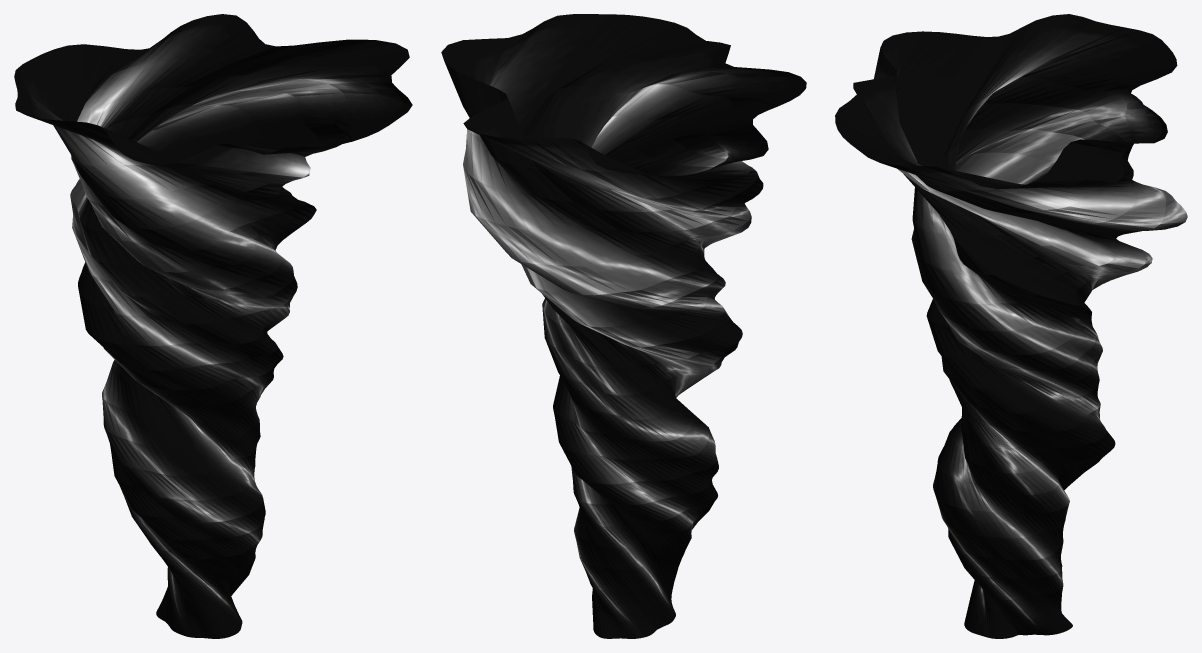
File: 0085_LJF.glb
The picture shows the model from 3 angles, left to right: view 1: azimuth 30°, elevation 25°; view 2: azimuth 150°, elevation 25°; view 3: azimuth 270°, elevation 25°; orthographic projection. The views are drawn at different scales.
Size of the model in its own units: 1.55 by 2.2 by 1.32.
Materials: 1 (1 with a texture image).
